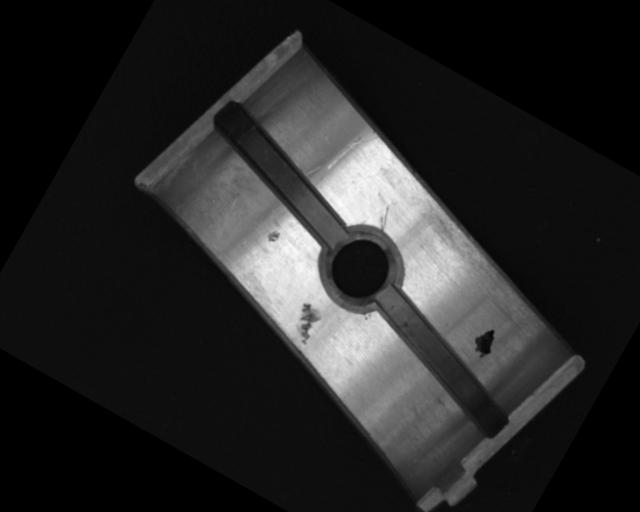blot: (467, 322, 502, 362)
bruise: (283, 299, 325, 346), (263, 225, 282, 245)
gap: (345, 281, 538, 440), (189, 99, 372, 249)
hole: (306, 210, 418, 323)
nick: (323, 117, 380, 183), (372, 204, 396, 234)
scratch: (408, 204, 562, 325)
